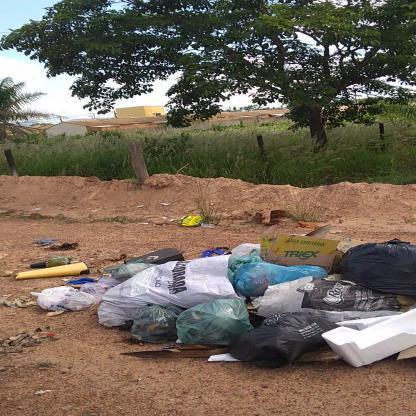lixo: (38, 236, 415, 361)
